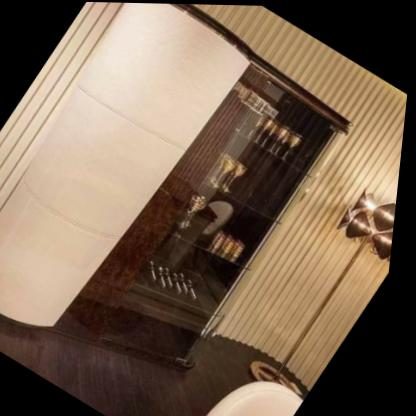Cupboard: (0, 2, 352, 370)
